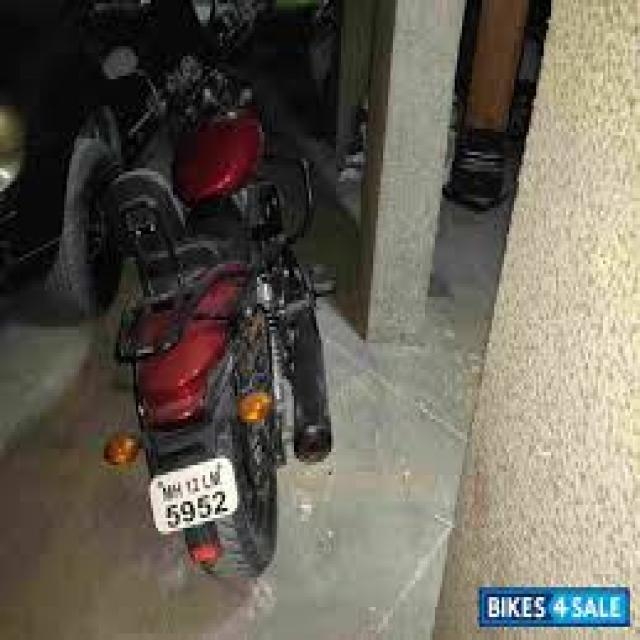number_plate: (126, 452, 263, 564)
